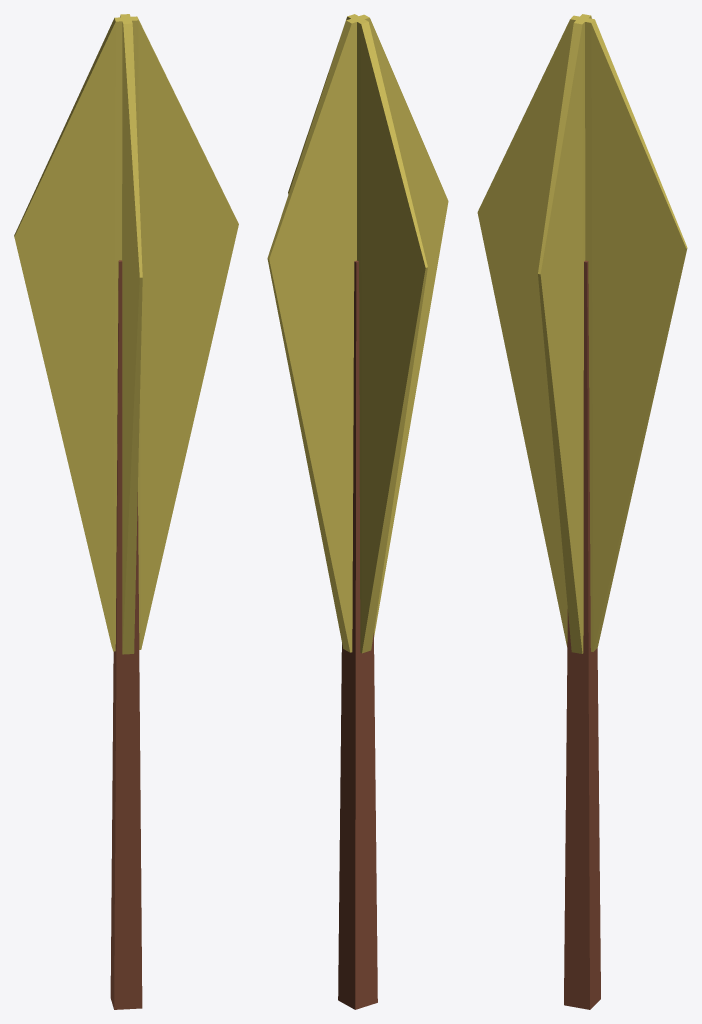
File: Tree_32_autumn_mat.fbx
3 renders of one model, left to right at view 1: azimuth 30°, elevation 25°; view 2: azimuth 150°, elevation 25°; view 3: azimuth 270°, elevation 25°, orthographic.
Parts seen in each view (by area): view 1: Tree_32_autumn_mat; view 2: Tree_32_autumn_mat; view 3: Tree_32_autumn_mat.
Part boxes in pixels (bbox=[...]): Tree_32_autumn_mat: bbox=[14, 14, 238, 1009]; Tree_32_autumn_mat: bbox=[267, 14, 448, 1009]; Tree_32_autumn_mat: bbox=[477, 14, 687, 1009].
Bounding box in the file's own units: 1.96 × 10.12 × 1.96.
